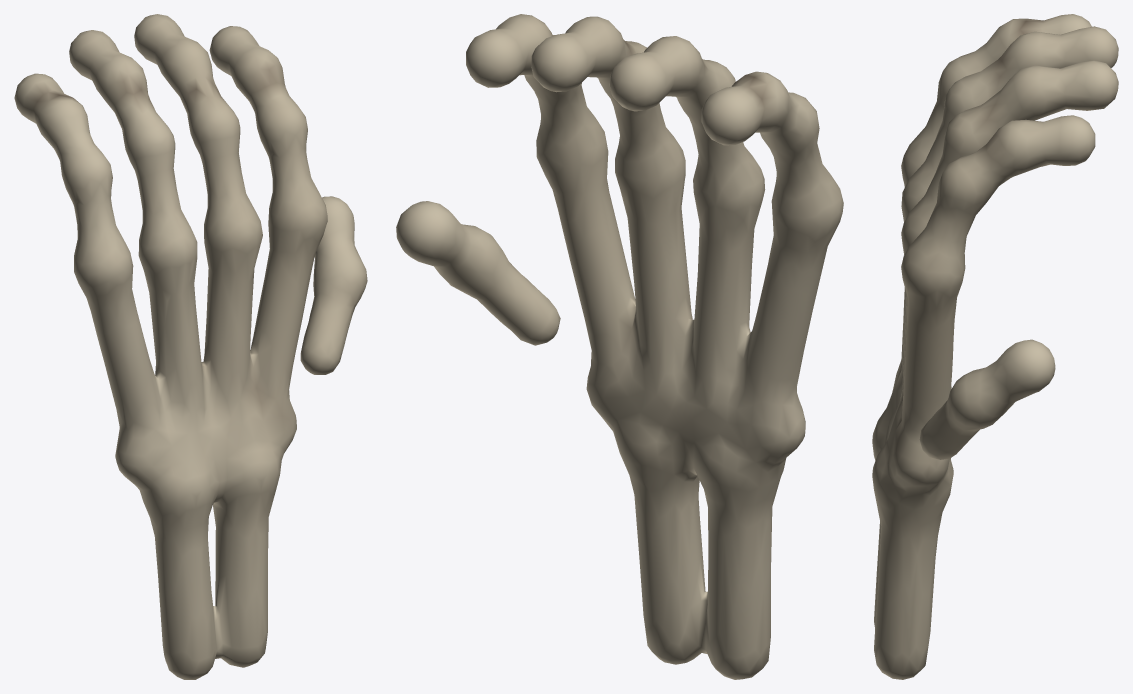
Rendered from skeletron_hand.glb.
The picture shows the model from 3 angles, left to right: view 1: azimuth 30°, elevation 25°; view 2: azimuth 150°, elevation 25°; view 3: azimuth 270°, elevation 25°; orthographic projection. The views are drawn at different scales.
Visible parts, largest first — view 1: skeletron_hand_v0; view 2: skeletron_hand_v0; view 3: skeletron_hand_v0.
Boxes of the visible parts, left/top/right/bottom form: skeletron_hand_v0: left=14, top=14, right=367, bottom=679; skeletron_hand_v0: left=396, top=14, right=843, bottom=679; skeletron_hand_v0: left=872, top=14, right=1118, bottom=679.
Size of the model in its own units: 0.2937 by 0.5124 by 0.1852.
